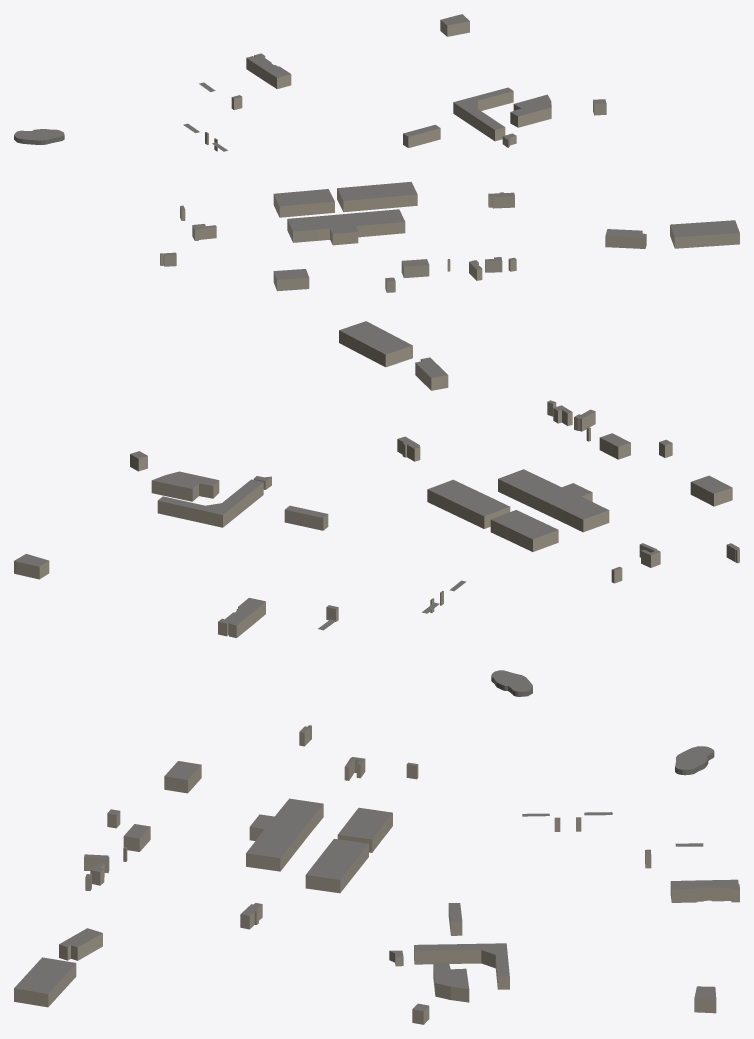
The model's file is buildings.glb.
3 renders of one model, top to bottom at view 1: azimuth 30°, elevation 25°; view 2: azimuth 150°, elevation 25°; view 3: azimuth 270°, elevation 25°, orthographic. The views are drawn at different scales.
Parts seen in each view (by area): view 1: T_E1_N5_buildings; view 2: T_E1_N5_buildings; view 3: T_E1_N5_buildings.
Boxes of the visible parts, x1,y1,x2,y2 form: T_E1_N5_buildings: (14, 14, 739, 292); T_E1_N5_buildings: (14, 321, 739, 696); T_E1_N5_buildings: (14, 725, 739, 1024).
Bounding box in the file's own units: 455 × 12 × 488.
